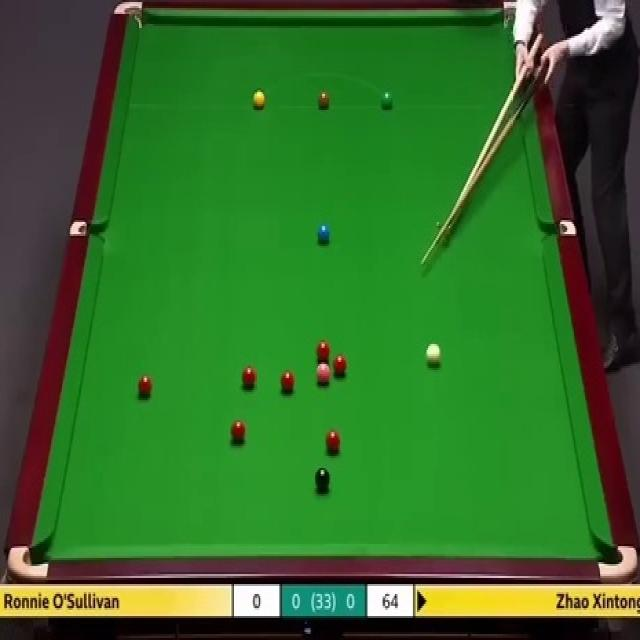pocket: (6, 542, 50, 583), (594, 540, 638, 580), (110, 0, 144, 29), (541, 218, 578, 236), (69, 220, 106, 235)
